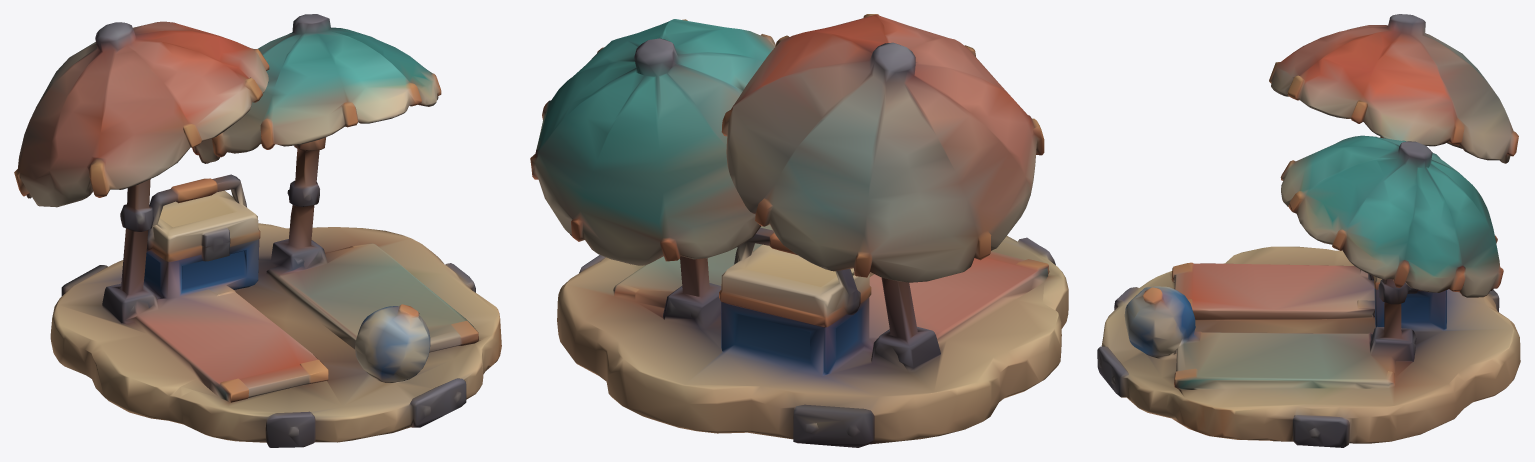
Rendered from parasols-BlusNoEP.glb.
3 renders of one model, left to right at view 1: azimuth 30°, elevation 25°; view 2: azimuth 150°, elevation 25°; view 3: azimuth 270°, elevation 25°, orthographic. The views are drawn at different scales.
Parts seen in each view (by area): view 1: tripo_node_cbbb1ed7-f737-4ac4-b628-80a78450d975; view 2: tripo_node_cbbb1ed7-f737-4ac4-b628-80a78450d975; view 3: tripo_node_cbbb1ed7-f737-4ac4-b628-80a78450d975.
Boxes of the visible parts, <box> form: tripo_node_cbbb1ed7-f737-4ac4-b628-80a78450d975: <box>14,14,501,447</box>; tripo_node_cbbb1ed7-f737-4ac4-b628-80a78450d975: <box>530,14,1068,447</box>; tripo_node_cbbb1ed7-f737-4ac4-b628-80a78450d975: <box>1097,14,1520,447</box>.
Bounding box in the file's own units: 0.9797 × 0.7455 × 0.9648.
